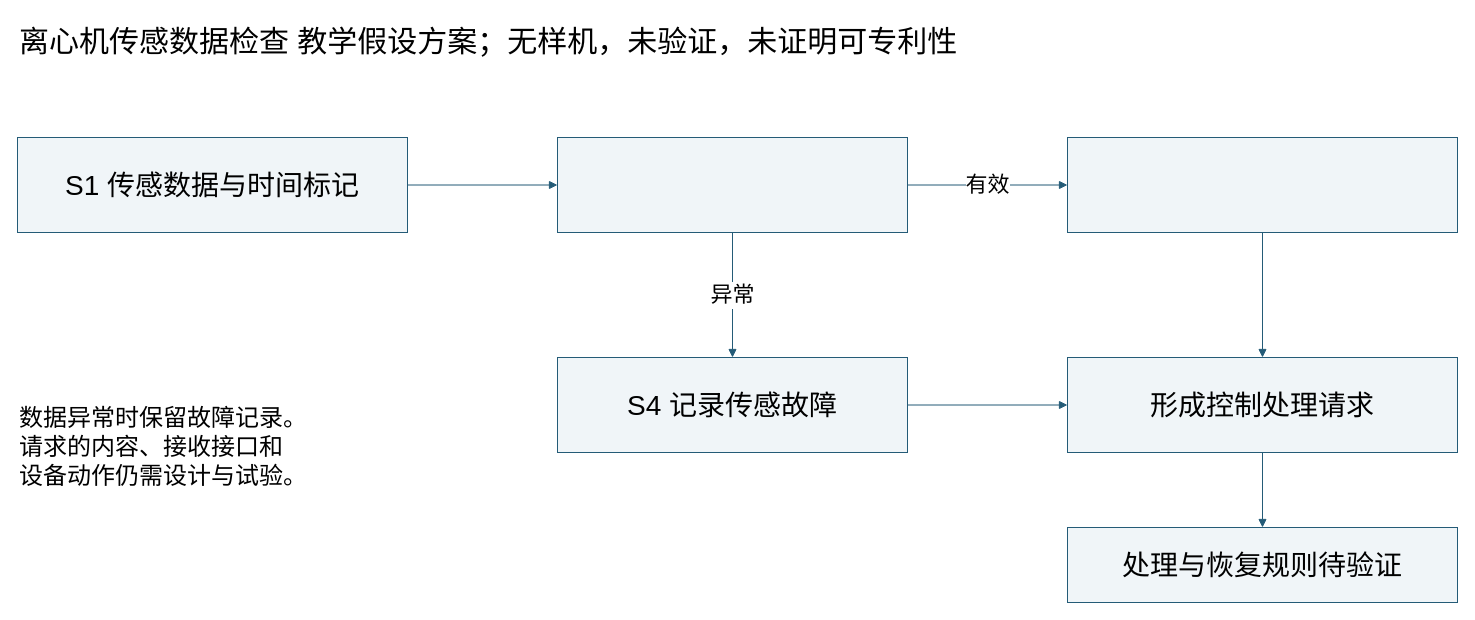
The diagram is 1475 pixels wide and 620 high, and some of its shapes have lost their labels. Each missing label, with the centre of its shape:
"S2 数据有效？" belongs at point 732,184.
"S3 识别运行状态" belongs at point 1262,184.
